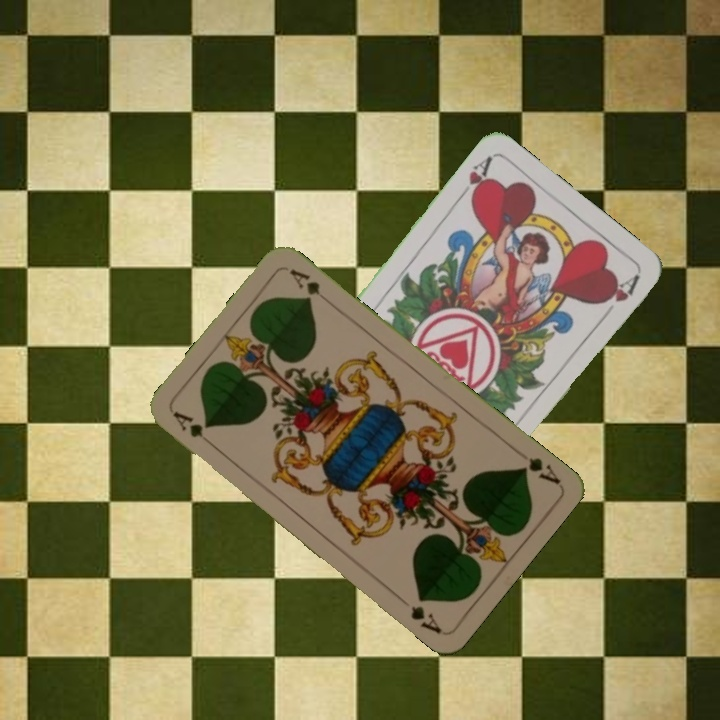GA: (169, 407, 219, 451), (516, 453, 562, 487)
HA: (453, 152, 495, 205)
